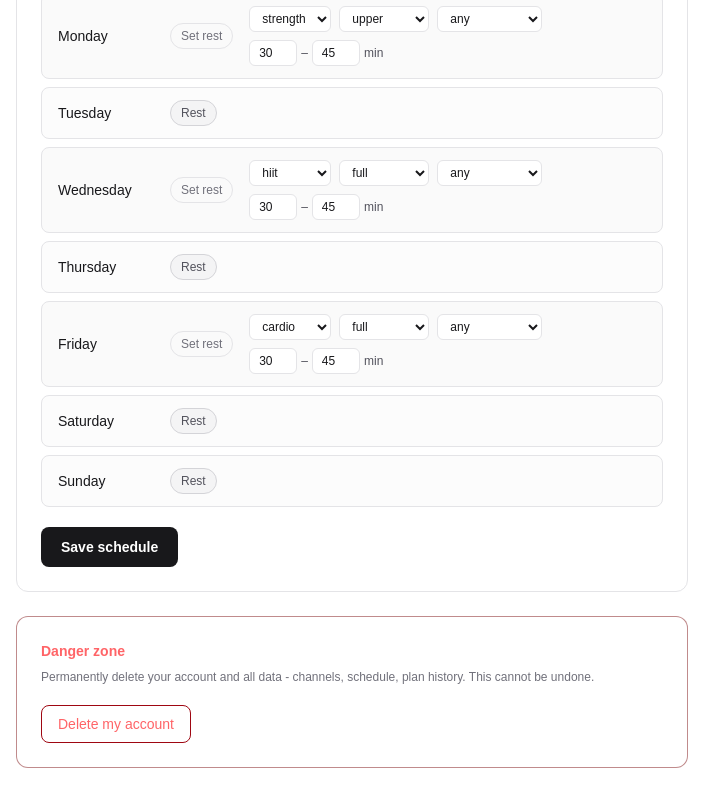
it: SettingsPage - delete account › shows confirmation prompt after clicking delete
(page scrolled)
Click the button "Delete my account". click: {"x": 116, "y": 724}
box: [41,705,191,743]
(page scrolled)
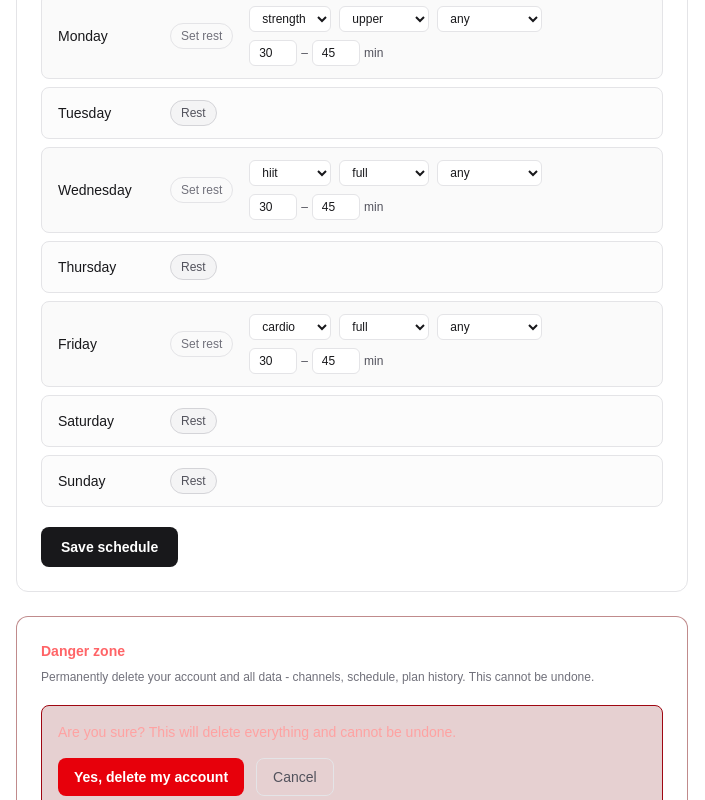
Check: the text "Are you sure" is shown, box [58,724,456,740]
Check: the button "Yes, delete my account" is shown, box [58,758,244,796]
Check: the button "Cancel" is shown, box [256,758,334,796]
